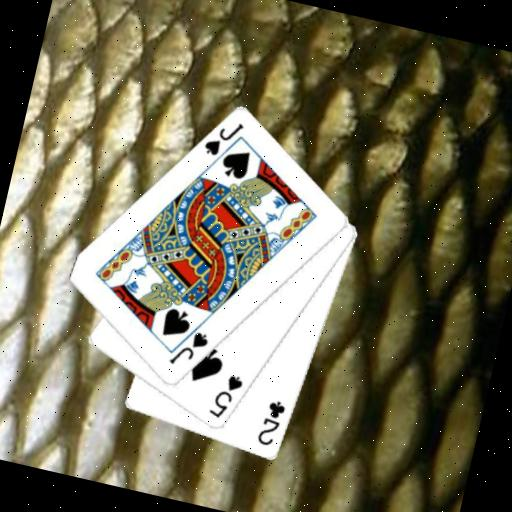2C: (254, 395, 290, 450)
5S: (205, 369, 247, 425)
JS: (199, 113, 247, 163), (165, 323, 212, 373)
